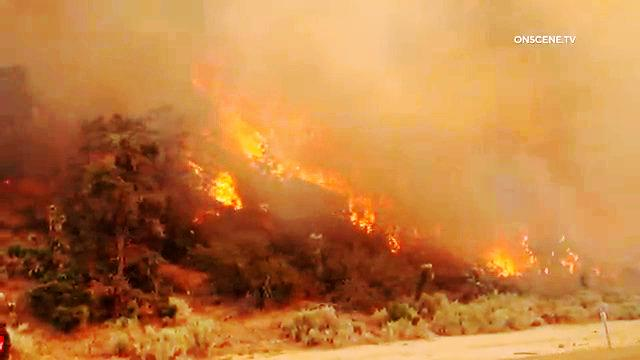fire: (168, 158, 236, 216), (346, 184, 404, 251), (219, 117, 277, 180), (466, 232, 526, 285)
